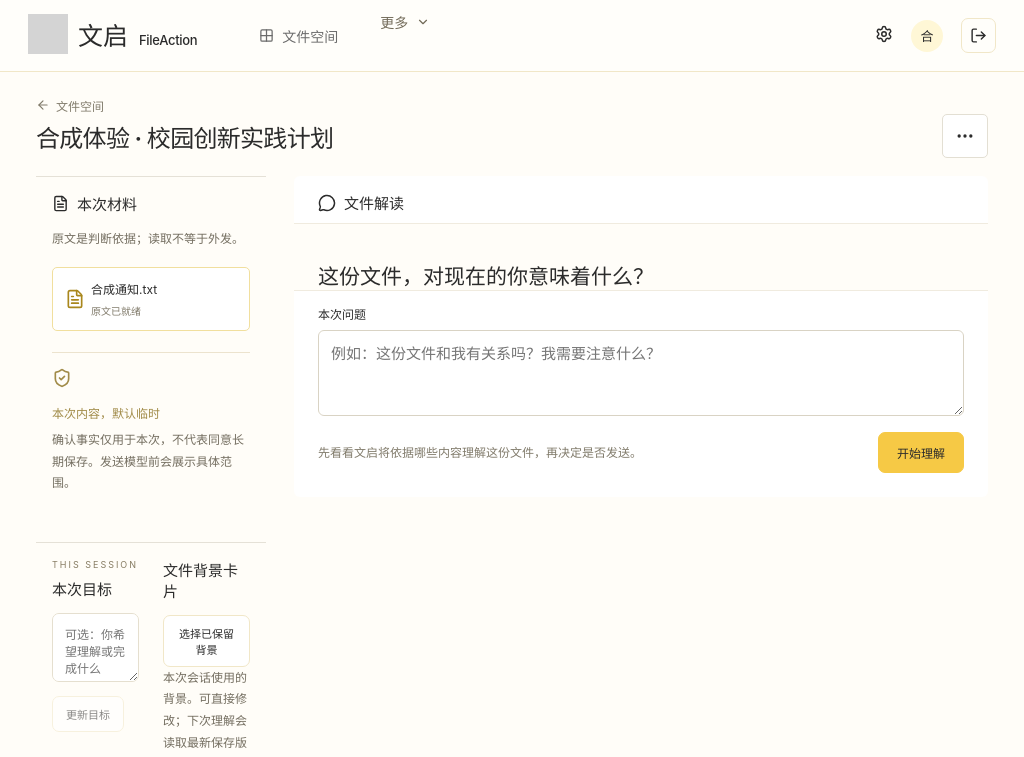
Test: 分析入口收起低频操作和流程说明，保留原文与背景入口
Expected: the text box labelled "本次问题" is shown, [318,330,964,416]
Click the heading named "会话选项" at (965, 136), box [942,114,988,158]
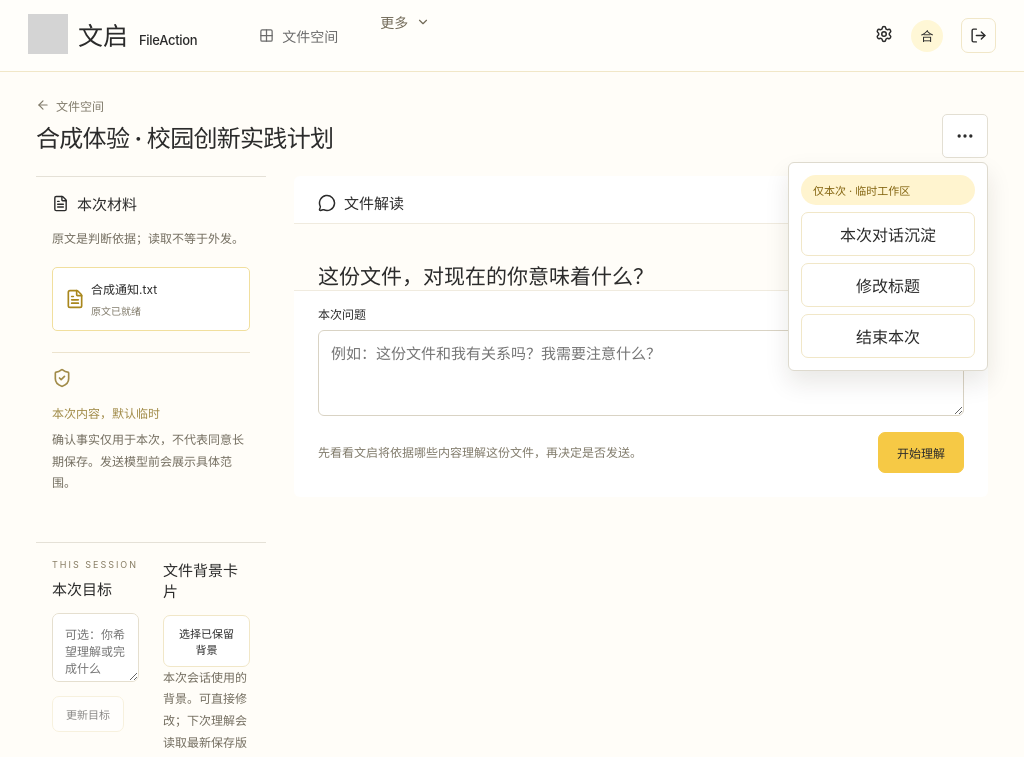
Expected: the button "结束本次" is shown, [801,314,975,358]
Expected: the button "修改标题" is shown, [801,263,975,307]
Expected: the button "本次对话沉淀" is shown, [801,212,975,256]
